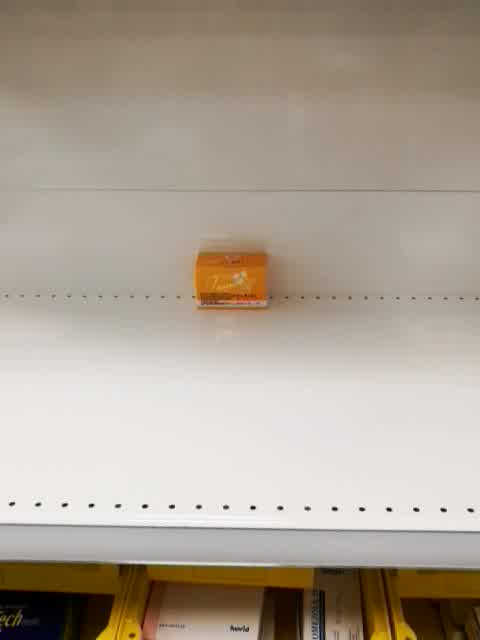jasminetea: (195, 251, 267, 310)
